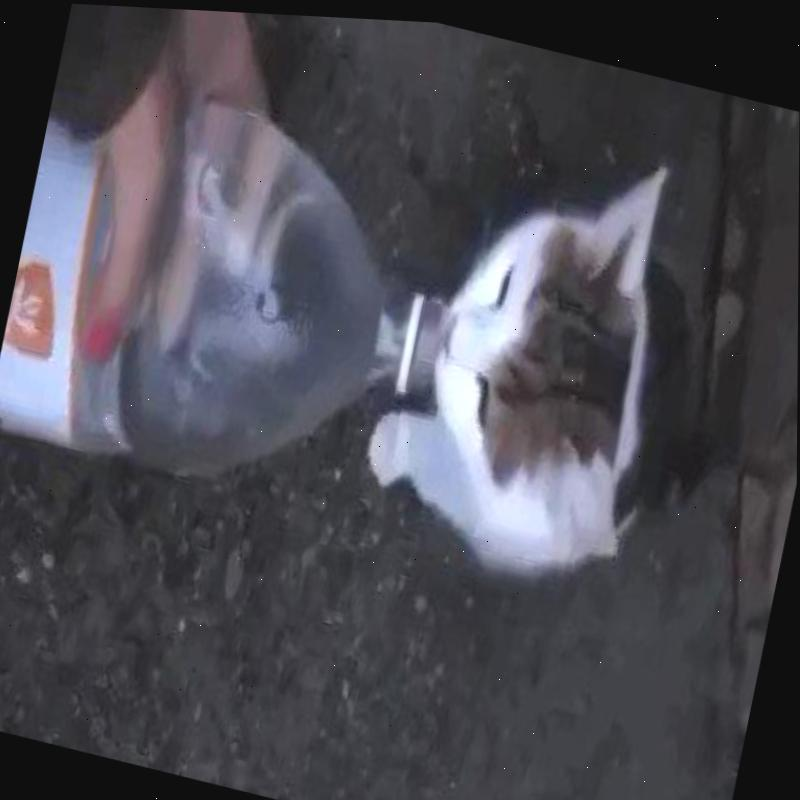botella: (0, 55, 480, 531)
